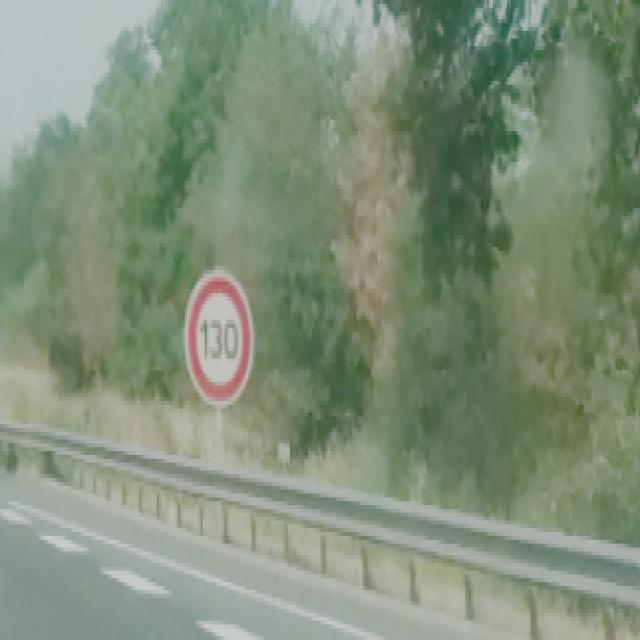speed_130: (184, 273, 255, 408)
